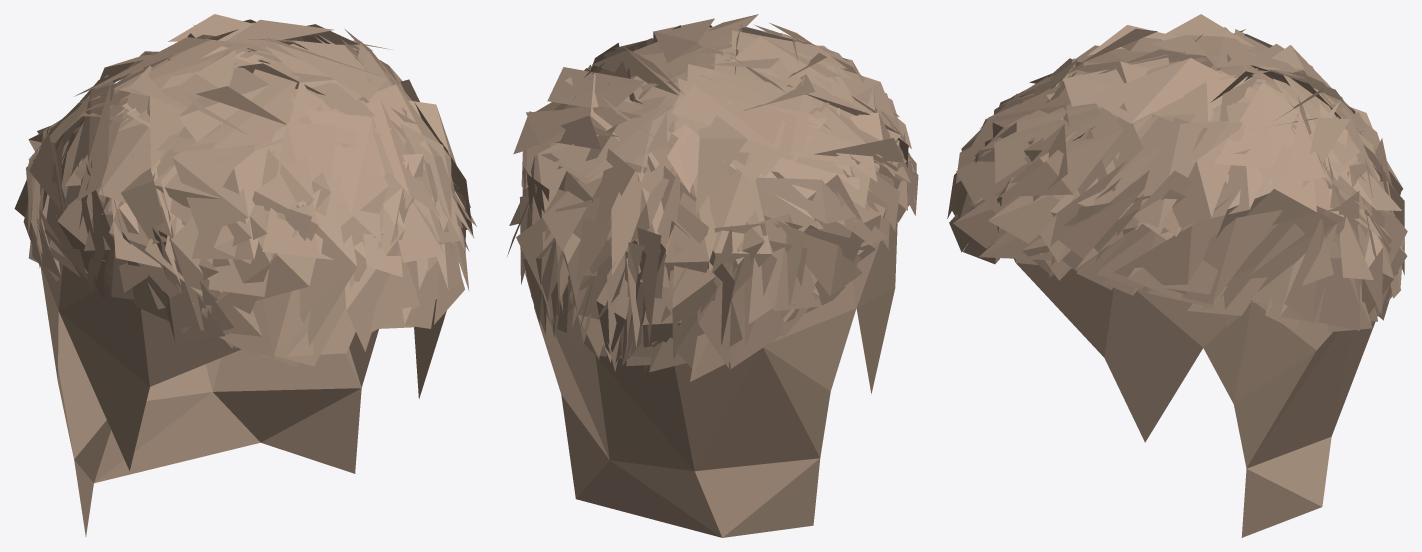
The model's file is male_hair_03_lod2.glb.
3 renders of one model, left to right at view 1: azimuth 30°, elevation 25°; view 2: azimuth 150°, elevation 25°; view 3: azimuth 270°, elevation 25°, orthographic. The views are drawn at different scales.
Visible parts, largest first — view 1: hair_03; view 2: hair_03; view 3: hair_03.
Part boxes in pixels (bbox=[...]): hair_03: bbox=[14, 14, 476, 536]; hair_03: bbox=[507, 14, 918, 537]; hair_03: bbox=[947, 14, 1407, 537].
Size of the model in its own units: 0.1566 by 0.1925 by 0.1865.
